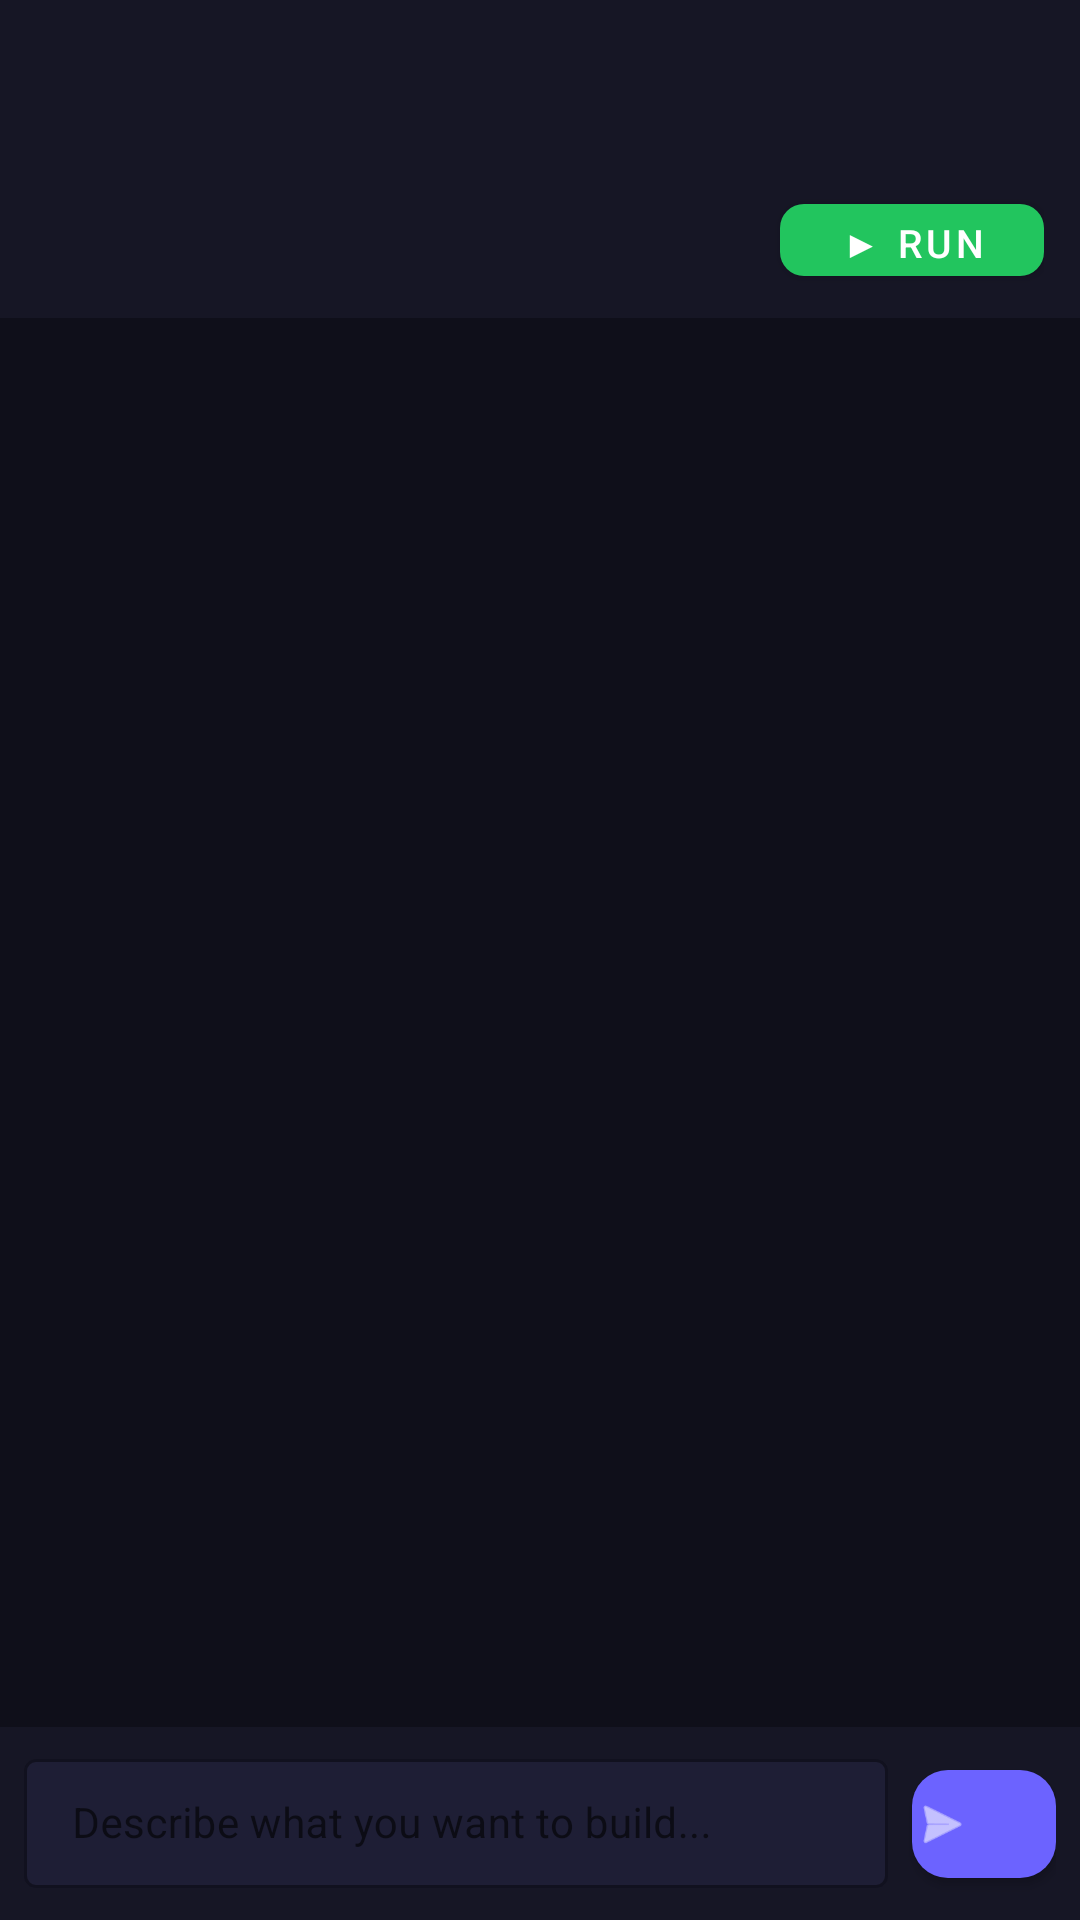

Screen size 1080px×1920px. Icon name, then its center in pixels as point (x, y):
send: point (984, 1824)
